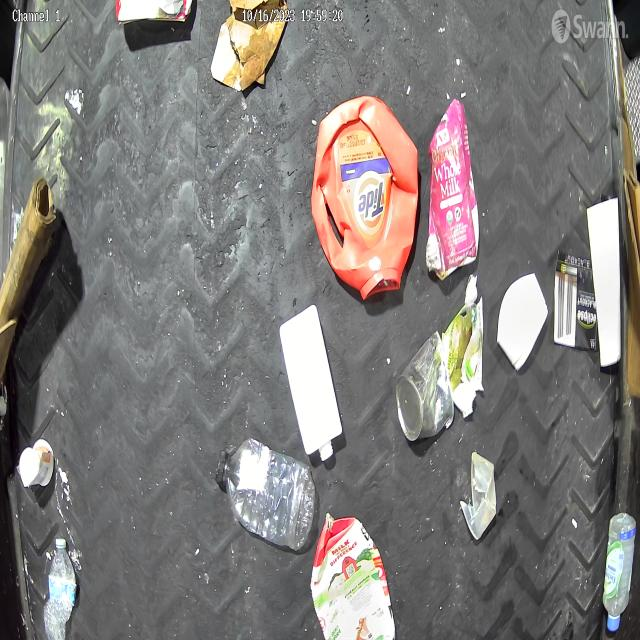can: (393, 322, 457, 455)
non_white_jug: (312, 91, 424, 311)
plastic_bottle: (214, 424, 319, 557), (598, 504, 640, 635), (35, 520, 76, 640)
